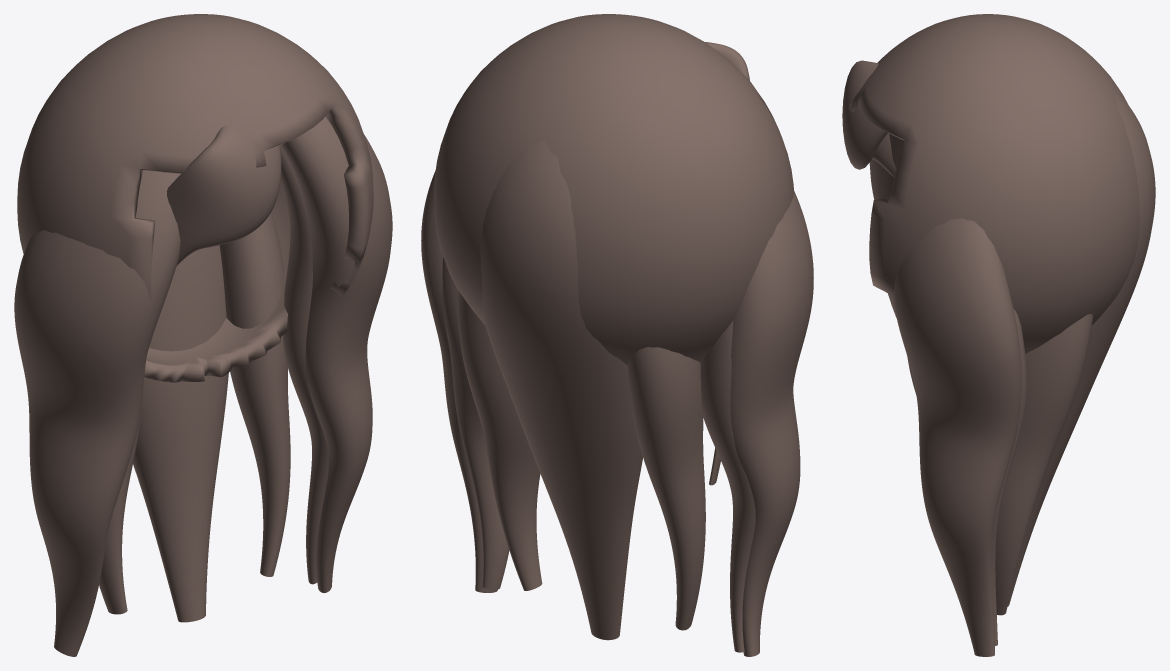
Rendered from hair_long_wave.glb.
3 views of the same model, side by side, from view 1: azimuth 30°, elevation 25°; view 2: azimuth 150°, elevation 25°; view 3: azimuth 270°, elevation 25° (orthographic). The views are drawn at different scales.
Visible parts, largest first — view 1: hair_scalp, hair_side_l_upper, hair_side_r_upper, hair_back_top, hair_back_nape_r, hair_bang, hair_side_r_under, hair_back_nape_l; view 2: hair_scalp, hair_back_top, hair_side_l_upper, hair_back_nape_l, hair_back_nape_r, hair_side_l_under, hair_side_r_under, hair_side_r_upper, hair_bang; view 3: hair_scalp, hair_side_r_upper, hair_back_nape_r, hair_back_top, hair_bang, hair_side_r_under, hair_side_l_upper.
Part boxes in pixels (<box>): hair_scalp: <box>17,14,373,382</box>; hair_side_l_upper: <box>14,170,180,656</box>; hair_side_r_upper: <box>280,116,392,593</box>; hair_back_top: <box>133,245,228,622</box>; hair_back_nape_r: <box>219,212,290,576</box>; hair_bang: <box>166,125,281,265</box>; hair_side_r_under: <box>280,145,328,584</box>; hair_back_nape_l: <box>99,399,142,614</box>; hair_scalp: <box>434,14,793,365</box>; hair_back_top: <box>480,140,642,640</box>; hair_side_l_upper: <box>730,191,813,656</box>; hair_back_nape_l: <box>627,347,705,630</box>; hair_back_nape_r: <box>457,290,542,590</box>; hair_side_l_under: <box>700,320,755,652</box>; hair_side_r_under: <box>442,257,509,589</box>; hair_side_r_upper: <box>421,170,497,592</box>; hair_bang: <box>705,42,749,485</box>; hair_scalp: <box>849,14,1139,353</box>; hair_side_r_upper: <box>893,218,1021,656</box>; hair_back_nape_r: <box>995,314,1092,615</box>; hair_back_top: <box>1007,92,1155,606</box>; hair_bang: <box>842,60,896,177</box>; hair_side_r_under: <box>991,308,1026,645</box>; hair_side_l_upper: <box>870,133,916,394</box>.
Size of the model in its own units: 2.76 by 4.37 by 2.16.
